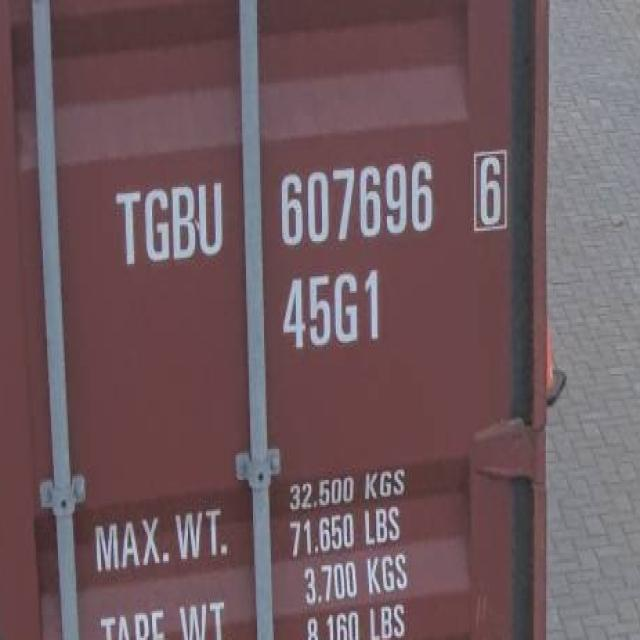dv: (468, 141, 509, 242)
owner: (109, 171, 229, 272)
serial: (274, 152, 438, 253)
size: (277, 267, 386, 356)
